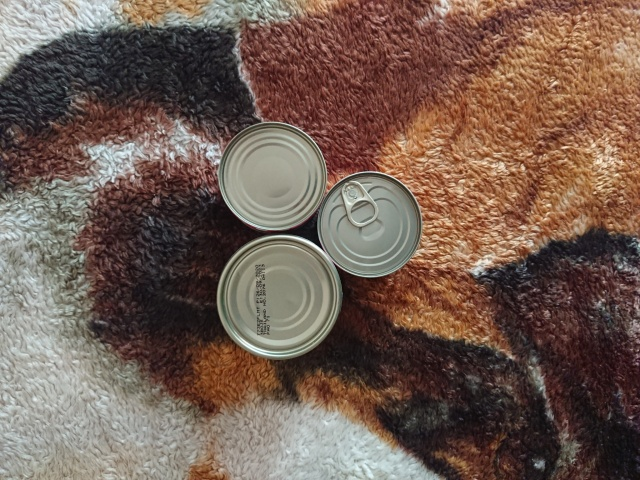Gavrilovic Pork Liver Pate 100g: (313, 167, 425, 282)
Giana Tuna Salad Mexico 185g: (212, 232, 345, 362)
Podravka Luncheon Meat 150g: (216, 119, 329, 235)
